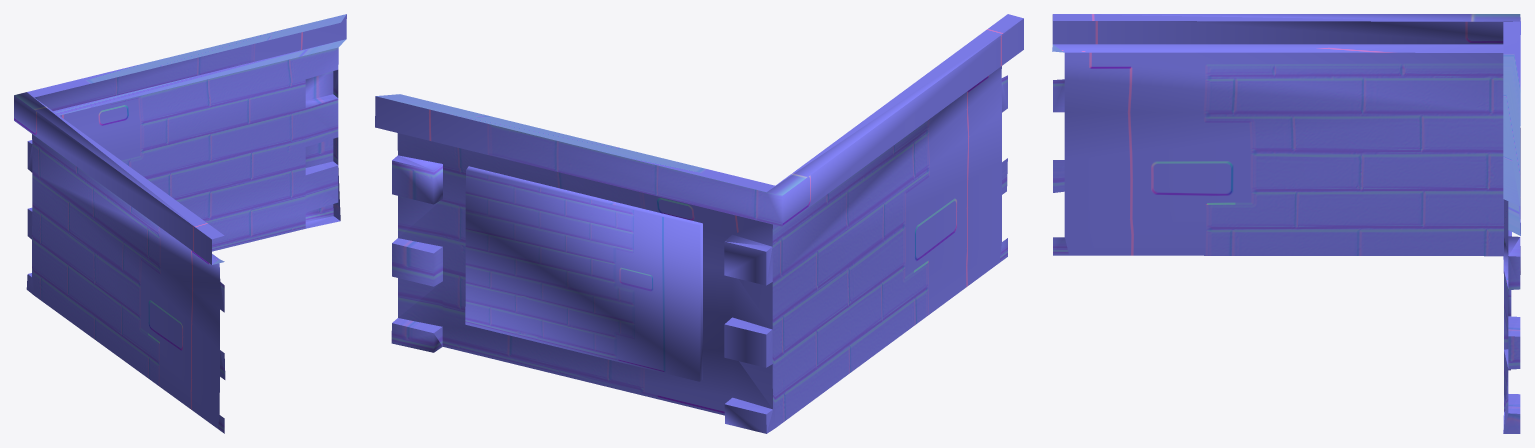
The model's file is rightupperhouse1.fbx.
The picture shows the model from 3 angles, left to right: view 1: azimuth 30°, elevation 25°; view 2: azimuth 150°, elevation 25°; view 3: azimuth 270°, elevation 25°; orthographic projection. The views are drawn at different scales.
Visible parts, largest first — view 1: UpperHouse; view 2: UpperHouse; view 3: UpperHouse.
Part boxes in pixels (x1,y1,x2,y2): UpperHouse: [14, 14, 346, 433]; UpperHouse: [375, 14, 1023, 433]; UpperHouse: [1052, 14, 1520, 433].
Size of the model in its own units: 131 by 75.19 by 135.
